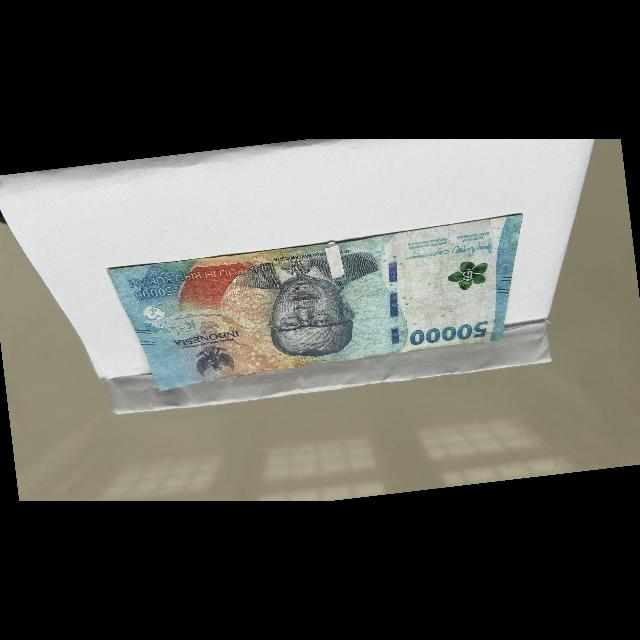Palsu-50k: (104, 204, 544, 399)
Tinta-Palsu-50k: (445, 261, 489, 291)
